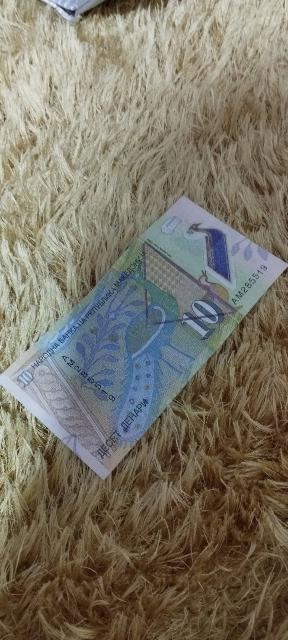10_note: (0, 198, 286, 477)
